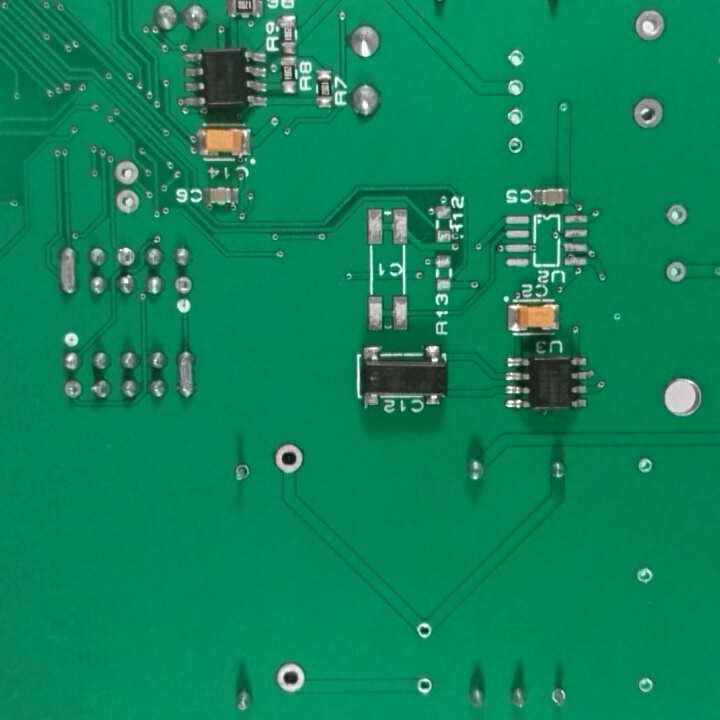F: (630, 9, 672, 43), (272, 659, 311, 695), (632, 92, 667, 131), (273, 440, 307, 478), (662, 200, 693, 231), (660, 258, 690, 287), (112, 159, 141, 188), (113, 189, 142, 217), (59, 379, 86, 403), (505, 45, 527, 72), (231, 462, 255, 486), (113, 245, 138, 268), (172, 275, 195, 300), (413, 674, 436, 699), (549, 683, 571, 708), (504, 78, 529, 100), (504, 107, 528, 129), (413, 620, 436, 641), (634, 566, 658, 586), (504, 137, 526, 157), (637, 677, 656, 698), (636, 458, 655, 475)
P: (53, 241, 79, 298), (173, 347, 197, 404)
